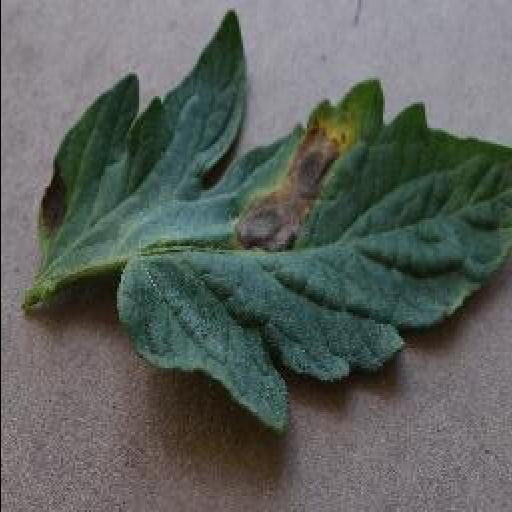disease_tomato: (36, 11, 512, 439)
